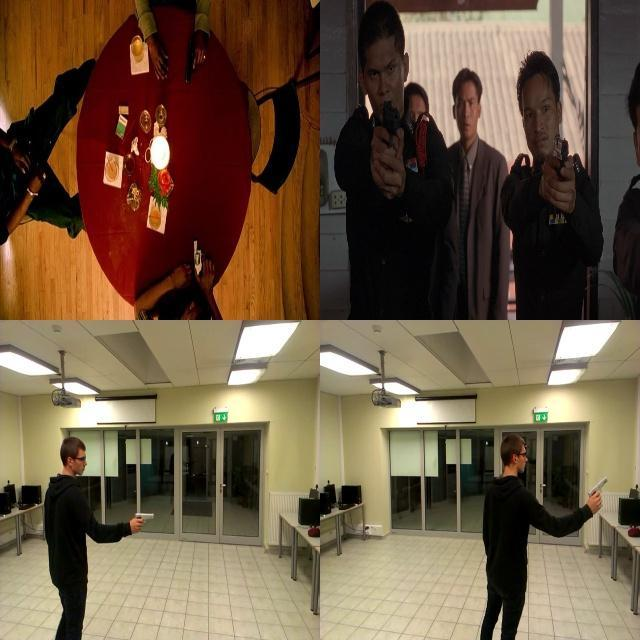gun-knife-thesis - v11 Yolov5 augmented: (372, 103, 401, 182), (545, 141, 578, 208), (179, 31, 212, 83), (188, 236, 216, 288), (581, 471, 607, 508), (129, 504, 154, 528)
